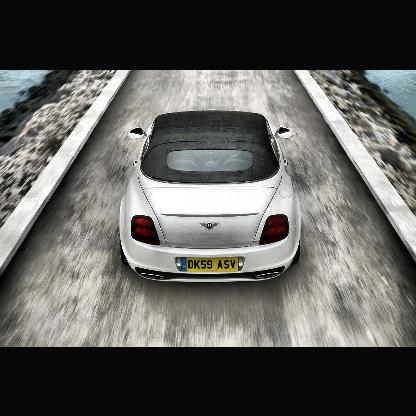Bentley Continental Supersports Conv- Convertible 2012: (119, 109, 304, 285)
